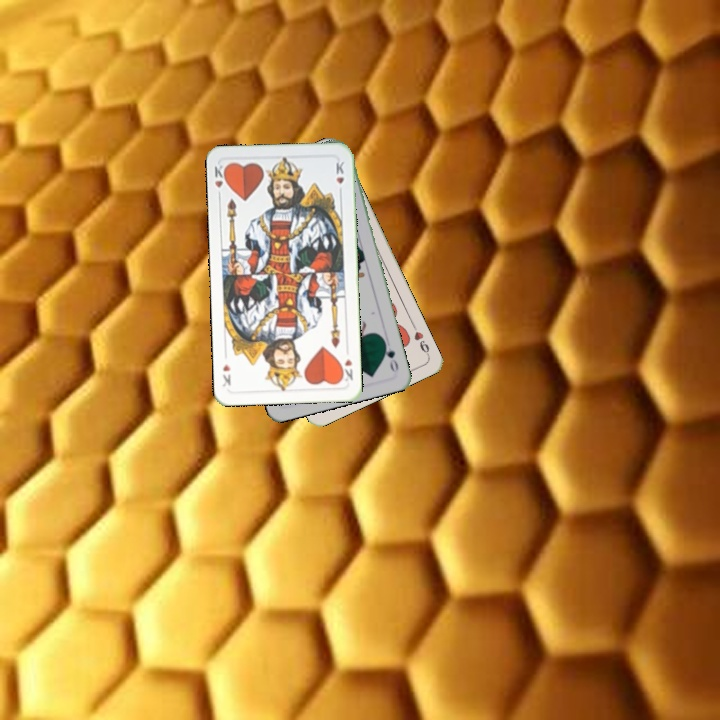GO: (379, 336, 401, 375)
H9: (409, 321, 432, 359)
HK: (211, 161, 230, 201), (337, 355, 355, 384)
